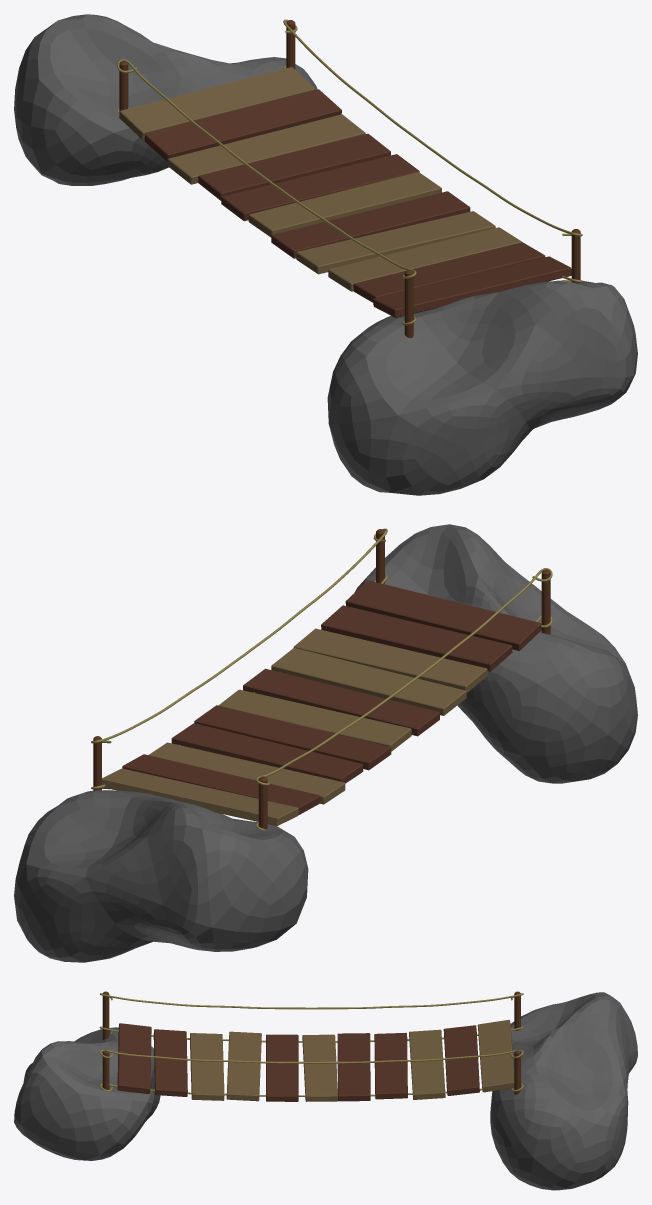
Rendered from Bridge.fbx.
The picture shows the model from 3 angles, top to bottom: view 1: azimuth 30°, elevation 25°; view 2: azimuth 150°, elevation 25°; view 3: azimuth 270°, elevation 25°; orthographic projection. The views are drawn at different scales.
Visible parts, largest first — view 1: Bridge; view 2: Bridge; view 3: Bridge.
Boxes of the visible parts, bbox=[...] form: Bridge: bbox=[14, 14, 637, 495]; Bridge: bbox=[14, 524, 637, 962]; Bridge: bbox=[14, 991, 637, 1190].
Bounding box in the file's own units: 803 × 539 × 2087.
